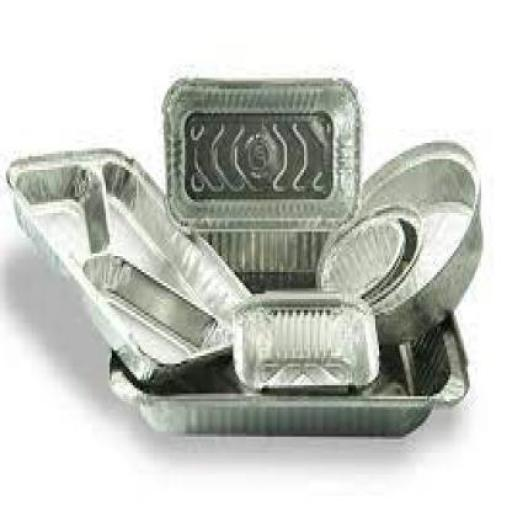metal: (106, 194, 468, 440), (2, 145, 252, 383), (160, 75, 362, 238), (321, 137, 481, 337), (229, 289, 381, 388), (313, 202, 422, 304), (319, 218, 402, 294)
